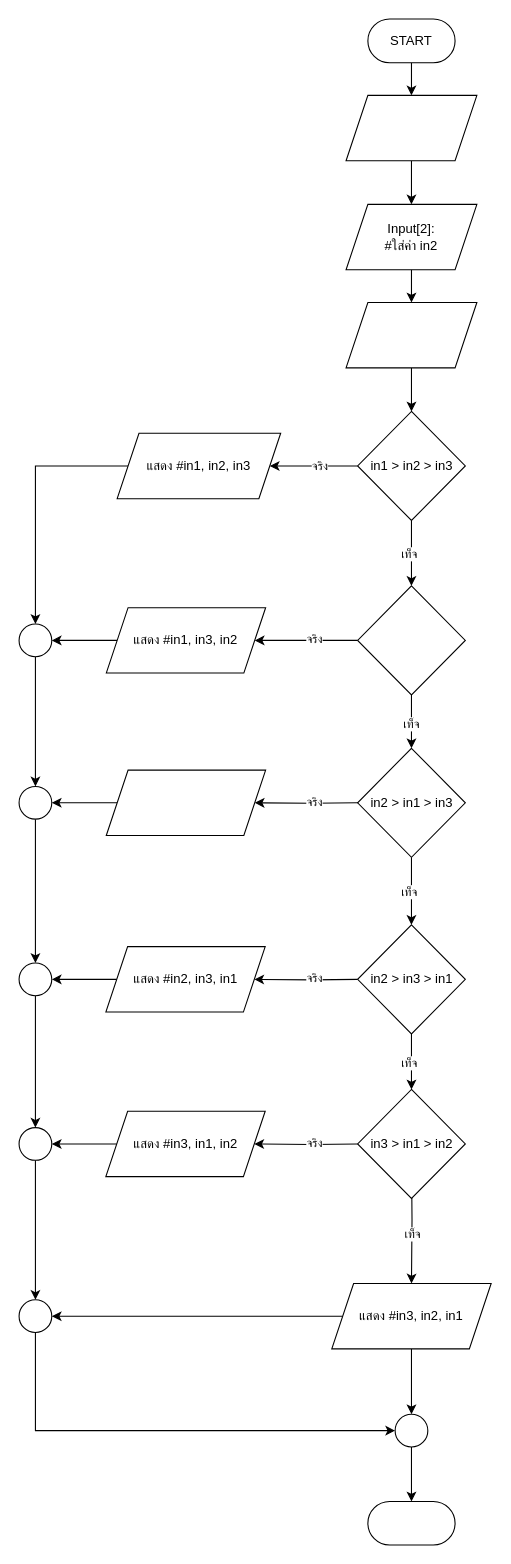
The diagram is 511 pixels wide and 1564 high, and some of its shapes have lost their labels. The shapes that lost their labels are listed below. From the top down, each one's centre as x and y in pixels, then its label:
At (411,127): "Input[1]: #ใส่ค่า in1".
At (411,334): "Input[3]: #ใส่ค่า in3".
At (411,640): "in1 > in3 > in2".
At (185,802): "แสดง #in2, in1, in3".
At (411,1522): "END".
